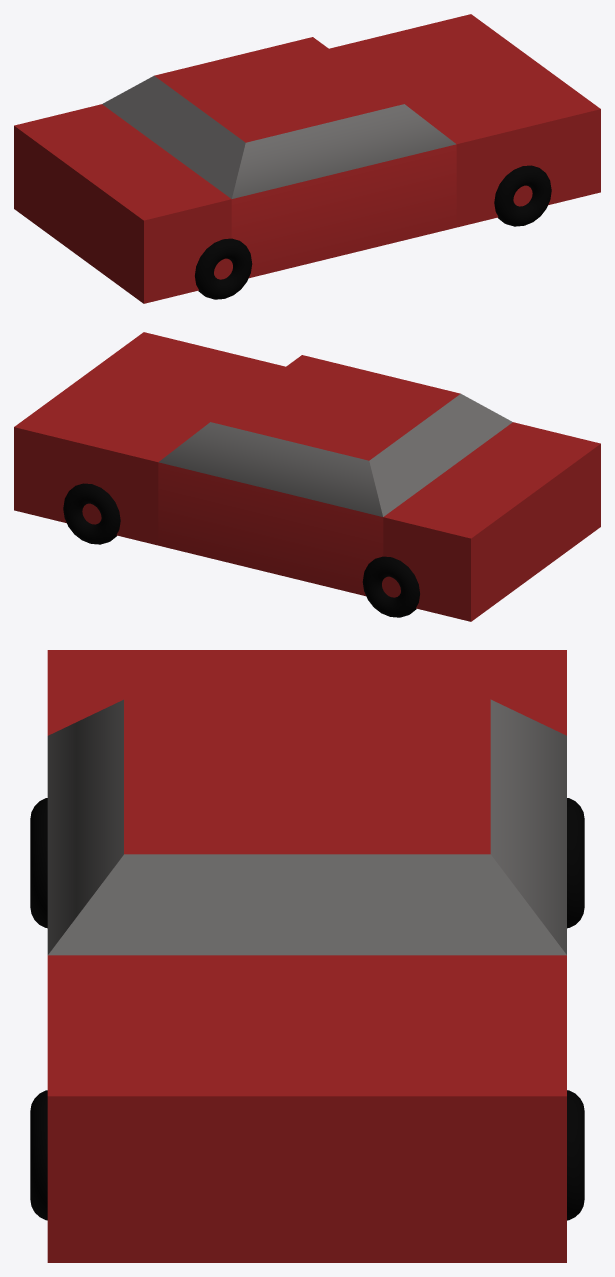
Rendered from Red Car.fbx.
3 views of the same model, one above another, from view 1: azimuth 30°, elevation 25°; view 2: azimuth 150°, elevation 25°; view 3: azimuth 270°, elevation 25° (orthographic). The views are drawn at different scales.
Visible parts, largest first — view 1: pTorus6; view 2: pTorus6; view 3: pTorus6.
Boxes of the visible parts, x1,y1,x2,y2 form: pTorus6: (14,14,600,303); pTorus6: (14,332,600,621); pTorus6: (30,650,584,1262).
Bounding box in the file's own units: 6.1 × 1.69 × 3.2.
